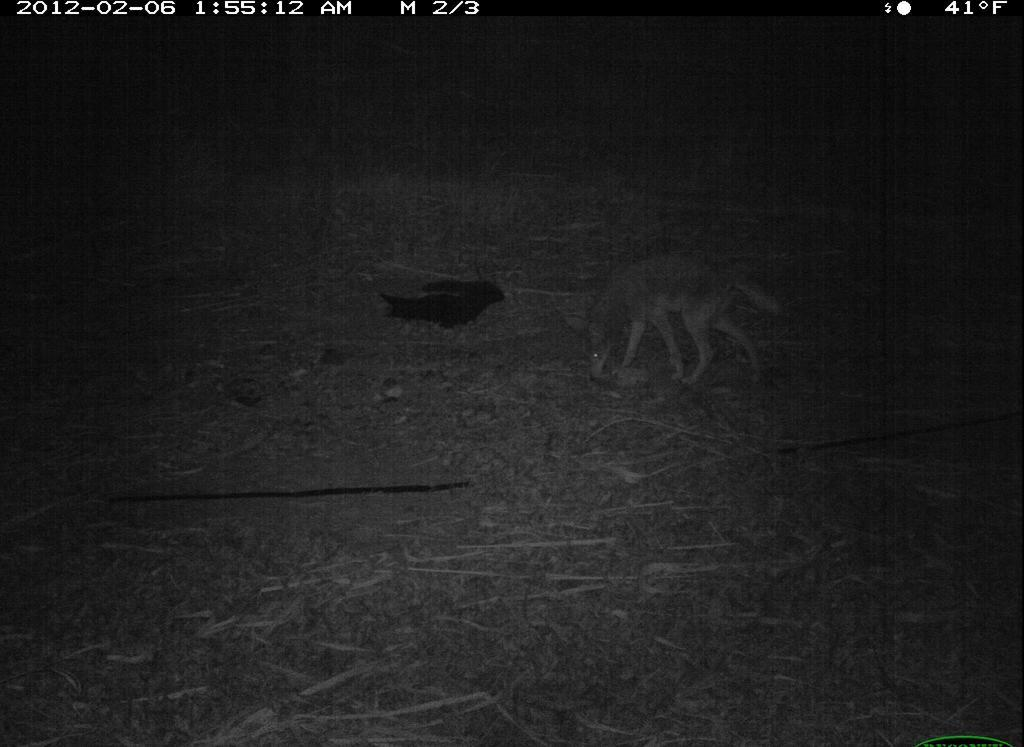coyote: (570, 249, 781, 397)
